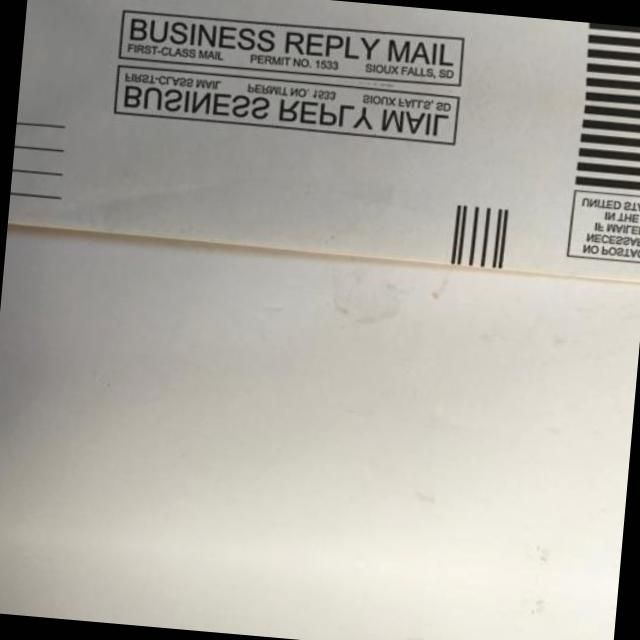paper: (7, 53, 640, 280), (22, 0, 640, 108)
